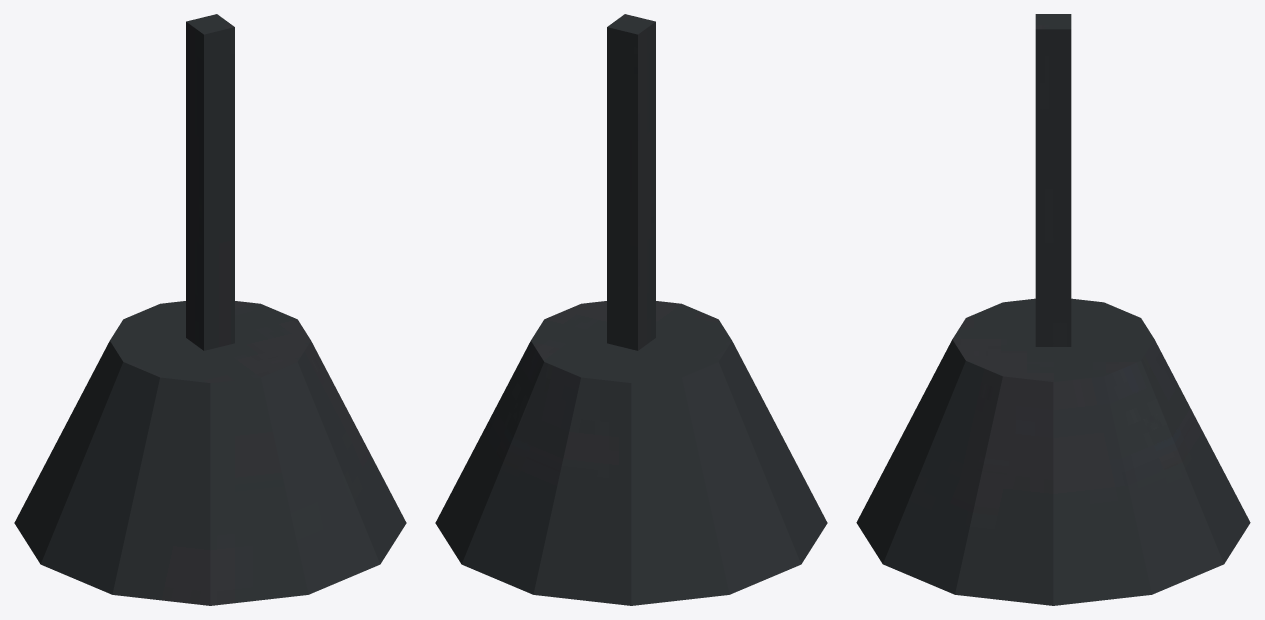
The model's file is Light.glb.
3 renders of one model, left to right at view 1: azimuth 30°, elevation 25°; view 2: azimuth 150°, elevation 25°; view 3: azimuth 270°, elevation 25°, orthographic.
Visible parts, largest first — view 1: Light; view 2: Light; view 3: Light.
Boxes of the visible parts, x1,y1,x2,y2 form: Light: (14, 14, 406, 605); Light: (435, 14, 827, 605); Light: (856, 14, 1250, 605).
Size of the model in its own units: 3.9 by 5.47 by 3.9.
Materials: 2 (1 with a texture image).
